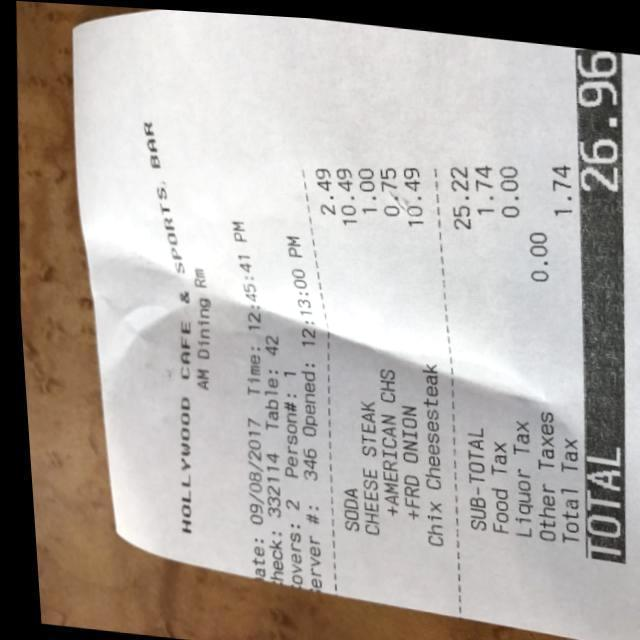Paper: (68, 5, 640, 640)
